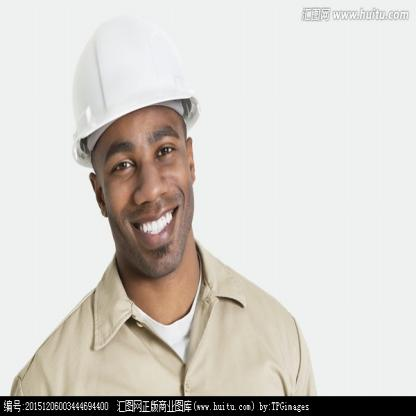capacete: (66, 13, 204, 283)
sem_colete_refletivo: (0, 244, 316, 400)
